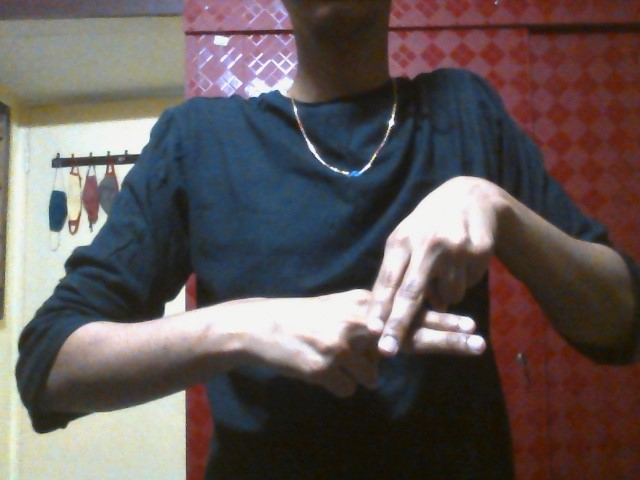F: (278, 194, 487, 400)
